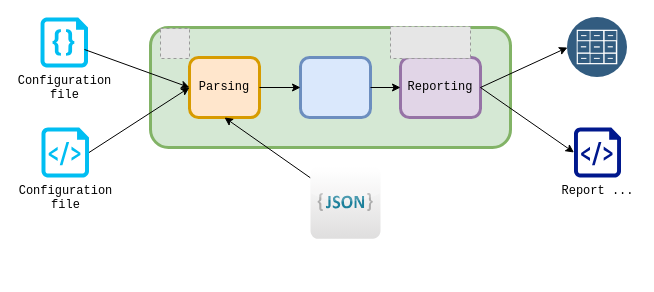
Image size: 654x292. Some labels were removed from this diagram. Grey dashed boxes stand in for pictures. The centre of each missing label's shape, as x and y in pixels:
"Analysis" goes at point (335, 87).
"Audit rules (regex) derived from CIS referentials" goes at point (345, 202).
"Report HTML" goes at point (597, 47).
